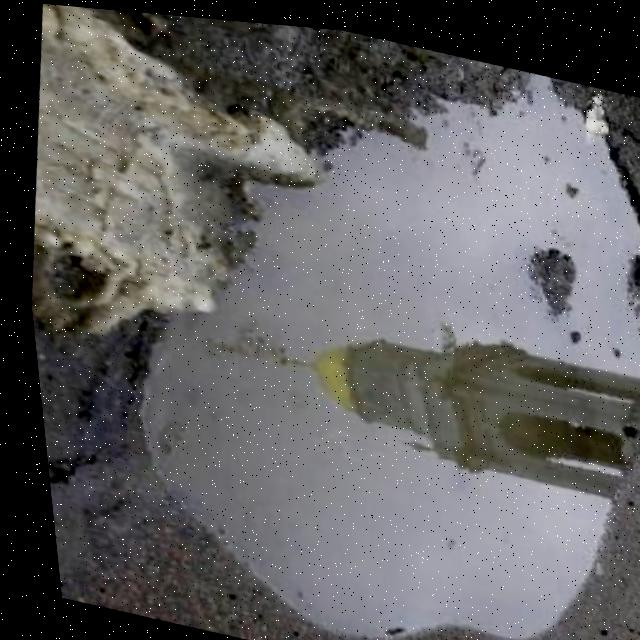Pothole: (73, 5, 640, 640)
